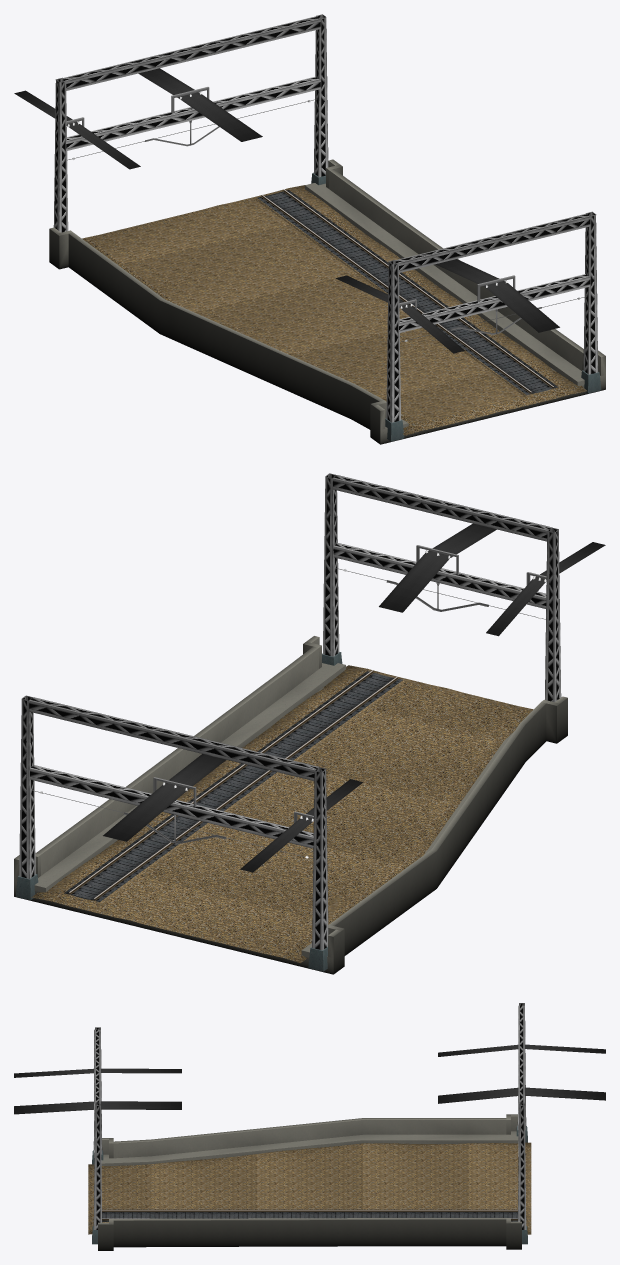
File: 4_TO_SIMAST.glb
3 views of the same model, one above another, from view 1: azimuth 30°, elevation 25°; view 2: azimuth 150°, elevation 25°; view 3: azimuth 270°, elevation 25° (orthographic). The views are drawn at different scales.
Parts seen in each view (by area): view 1: obj4, obj9, obj1; view 2: obj4, obj9, obj1; view 3: obj4, obj9, obj1.
Part boxes in pixels (x1=…): obj4: x1=49, y1=159, x2=605, y2=444; obj9: x1=14, y1=14, x2=328, y2=232; obj1: x1=335, y1=211, x2=601, y2=441; obj4: x1=14, y1=636, x2=567, y2=974; obj9: x1=15, y1=695, x2=363, y2=971; obj1: x1=322, y1=473, x2=605, y2=701; obj4: x1=88, y1=1114, x2=531, y2=1250; obj9: x1=438, y1=1003, x2=605, y2=1244; obj1: x1=14, y1=1027, x2=181, y2=1244.
Bounding box in the file's own units: 61.42 × 36.71 × 140.
Materials: 14 (13 with a texture image).
